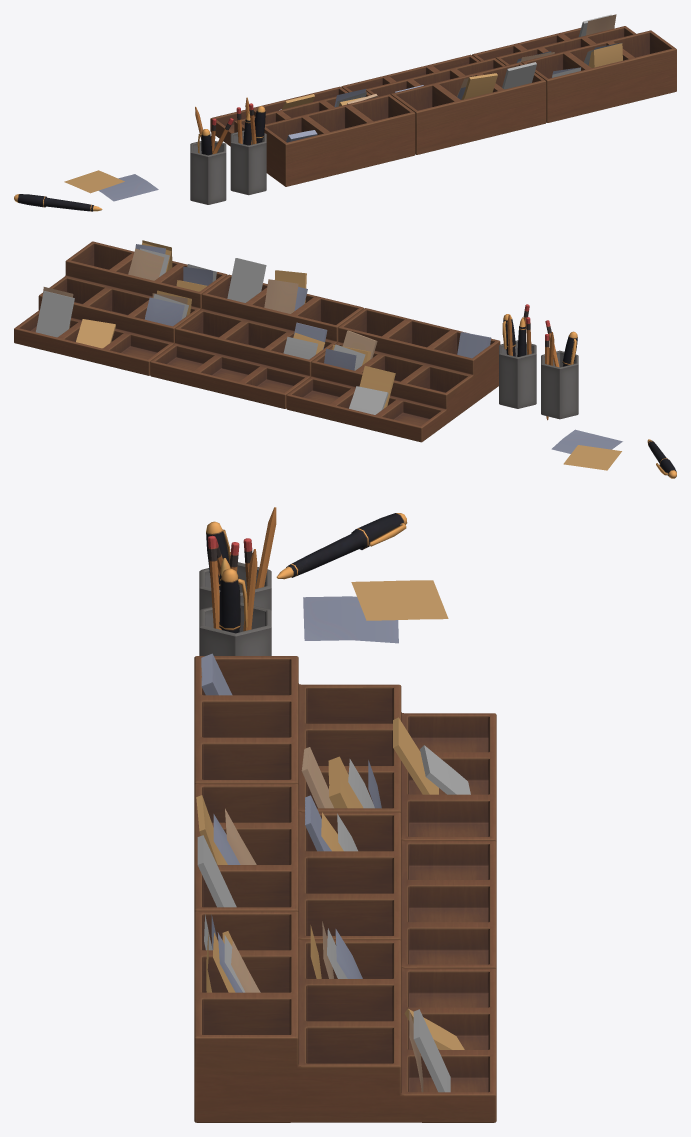
Rendered from BoardCafeA_SmallStuff.fbx.
3 renders of one model, top to bottom at view 1: azimuth 30°, elevation 25°; view 2: azimuth 150°, elevation 25°; view 3: azimuth 270°, elevation 25°, orthographic. The views are drawn at different scales.
Parts seen in each view (by area): view 1: BoardCafeA_SmallStuff; view 2: BoardCafeA_SmallStuff; view 3: BoardCafeA_SmallStuff.
Part boxes in pixels (x1,y1,x2,y2): BoardCafeA_SmallStuff: (14,14,676,211); BoardCafeA_SmallStuff: (14,240,676,478); BoardCafeA_SmallStuff: (194,507,496,1122).
Size of the model in its own units: 151 by 22.72 by 32.38.
